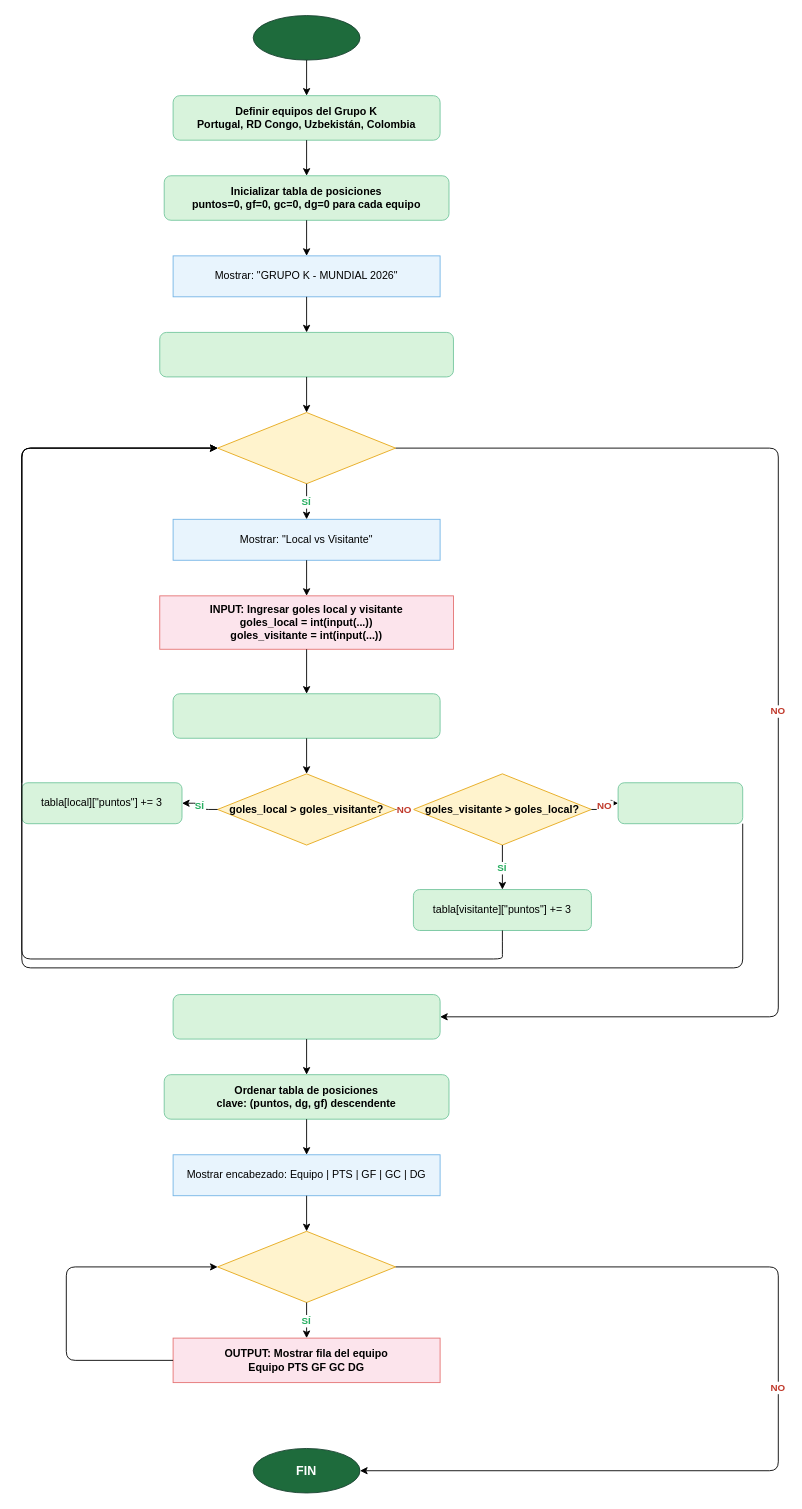
Some shapes in this 802 by 1509 pixel diagram are drawn without their labels. The shapes that lost their labels are listed below. From the top down, each one's box as (x1, y1, x2, y2) in pixels, then its label:
(252, 15, 360, 60): INICIO
(159, 332, 453, 377): Definir lista de 6 partidos POR-RDC, UZB-COL, POR-UZB, COL-RDC, COL-POR, RDC-UZB
(217, 412, 396, 484): ¿Quedan partidos por registrar?
(172, 693, 440, 738): Actualizar GF y GC tabla[local] y tabla[visitante] += goles
(617, 782, 743, 824): local += 1 visitante += 1
(172, 994, 440, 1039): Calcular diferencia de gol dg = gf - gc para cada equipo
(217, 1230, 396, 1303): ¿Quedan equipos por mostrar?
